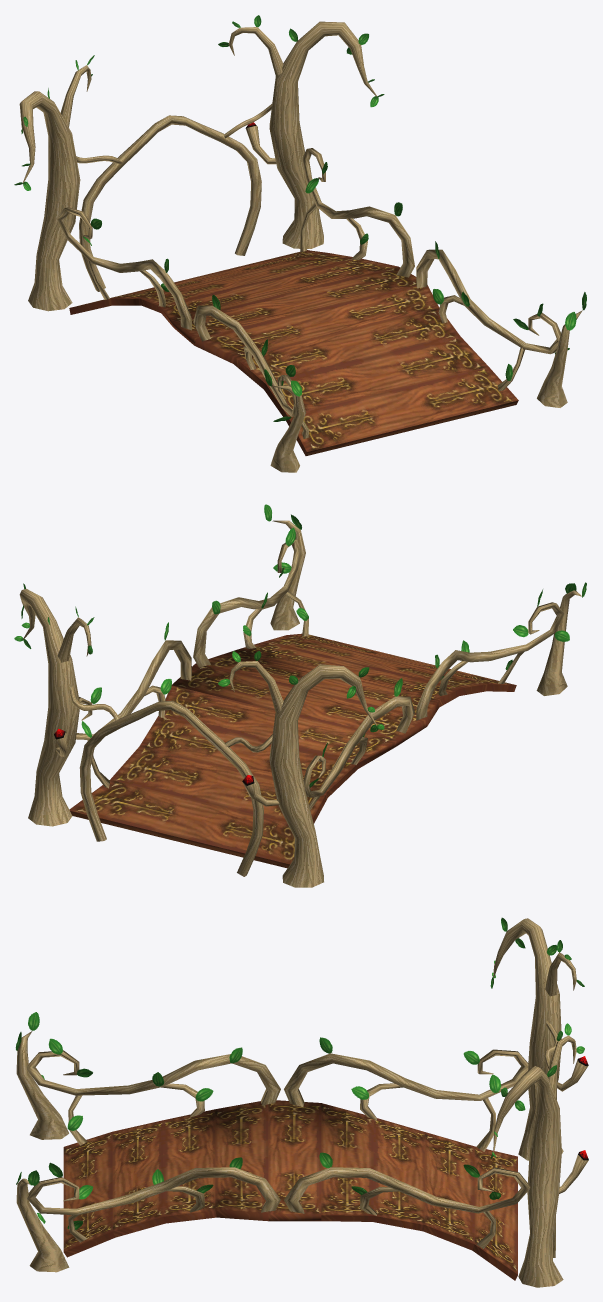
Rendered from THRONE_ROOM_BRIDGEONLY_TH_MAINBRIDGE76__GX.fbx.
3 views of the same model, one above another, from view 1: azimuth 30°, elevation 25°; view 2: azimuth 150°, elevation 25°; view 3: azimuth 270°, elevation 25° (orthographic).
Visible parts, largest first — view 1: THRONE_ROOM_BRIDGEONLY_TH_MAINBRIDGE76__GX; view 2: THRONE_ROOM_BRIDGEONLY_TH_MAINBRIDGE76__GX; view 3: THRONE_ROOM_BRIDGEONLY_TH_MAINBRIDGE76__GX.
Part boxes in pixels (x1=…): THRONE_ROOM_BRIDGEONLY_TH_MAINBRIDGE76__GX: x1=14, y1=15, x2=586, y2=472; THRONE_ROOM_BRIDGEONLY_TH_MAINBRIDGE76__GX: x1=14, y1=504, x2=586, y2=887; THRONE_ROOM_BRIDGEONLY_TH_MAINBRIDGE76__GX: x1=15, y1=917, x2=588, y2=1287.
Bounding box in the file's own units: 55920 × 33552 × 73858.
Materials: 5 (5 with a texture image).
